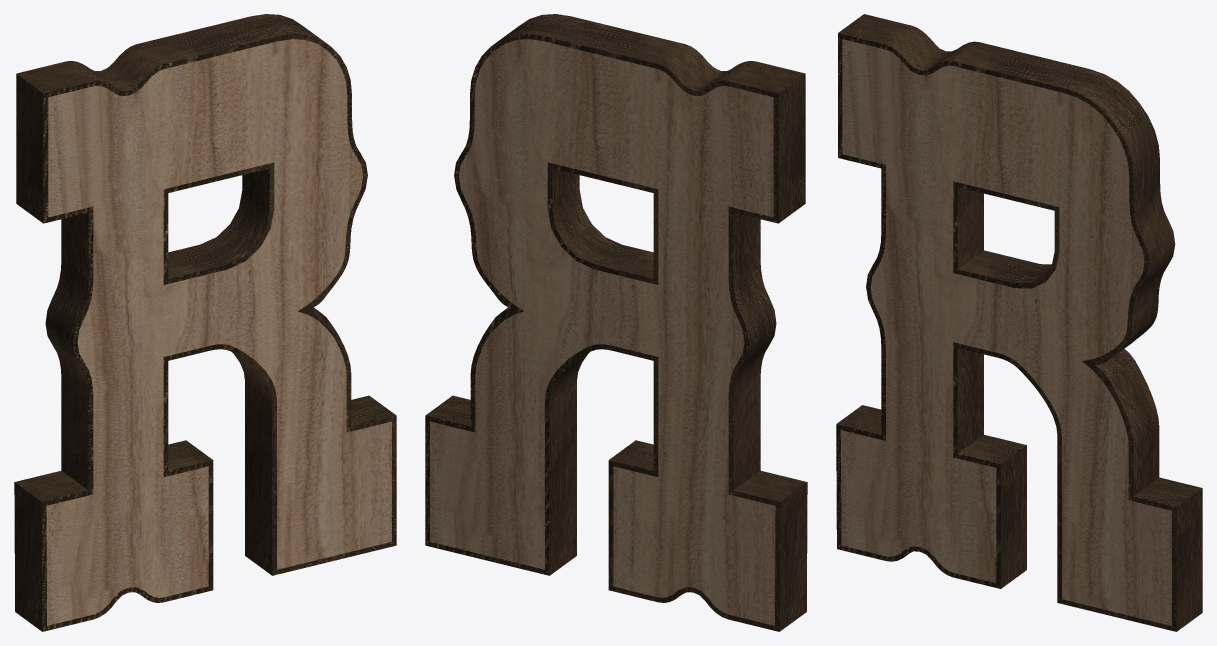
3 views of the same model, side by side, from view 1: azimuth 30°, elevation 25°; view 2: azimuth 150°, elevation 25°; view 3: azimuth 330°, elevation 25° (orthographic). The views are drawn at different scales.
Visible parts, largest first — view 1: R, R_outline; view 2: R, R_outline; view 3: R, R_outline.
Part boxes in pixels (x1,y1,x2,y2): R: (46,39,391,625); R_outline: (14,14,396,631); R: (430,39,775,625); R_outline: (425,14,807,631); R: (840,39,1171,625); R_outline: (836,14,1202,631).
Size of the model in its own units: 75.07 by 109 by 10.
2 materials, 2 textured.
